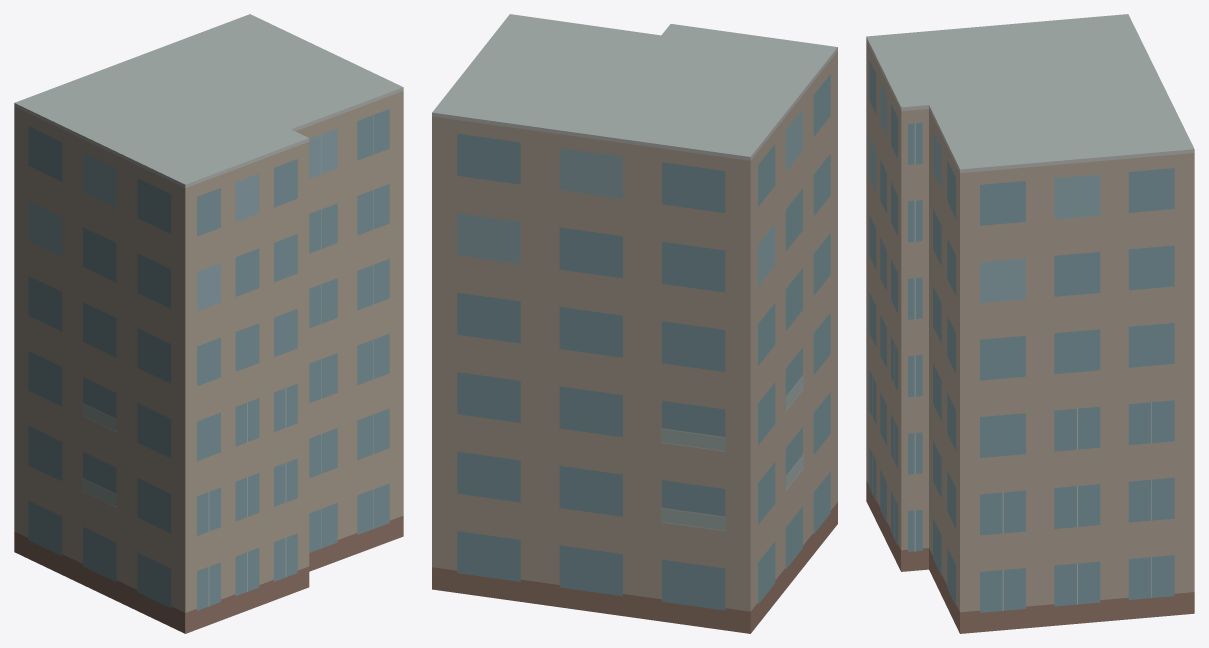
Rendered from survey-upis-32589709.glb.
3 renders of one model, left to right at view 1: azimuth 30°, elevation 25°; view 2: azimuth 150°, elevation 25°; view 3: azimuth 270°, elevation 25°, orthographic. The views are drawn at different scales.
Visible parts, largest first — view 1: survey-upis-32589709.tmp; view 2: survey-upis-32589709.tmp; view 3: survey-upis-32589709.tmp.
Boxes of the visible parts, x1=… form: survey-upis-32589709.tmp: x1=14, y1=14, x2=403, y2=633; survey-upis-32589709.tmp: x1=432, y1=14, x2=837, y2=633; survey-upis-32589709.tmp: x1=866, y1=14, x2=1194, y2=633.
Bounding box in the file's own units: 21.73 × 30.26 × 19.4.
